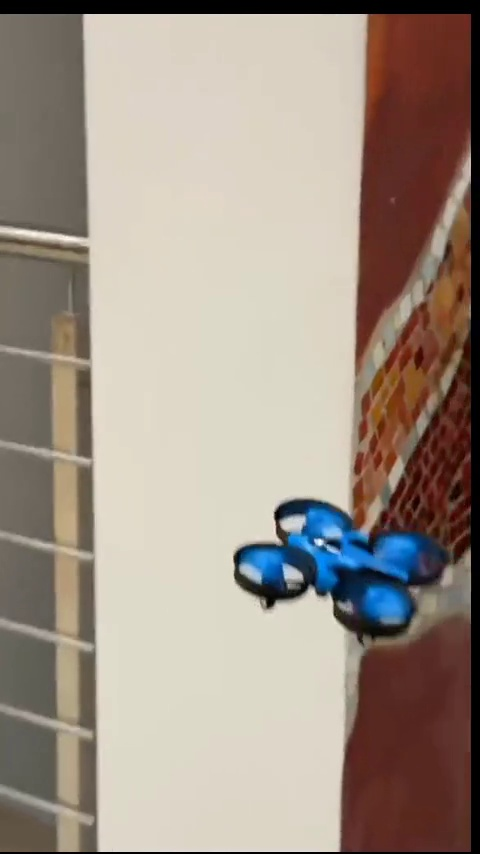drone: (231, 497, 445, 642)
